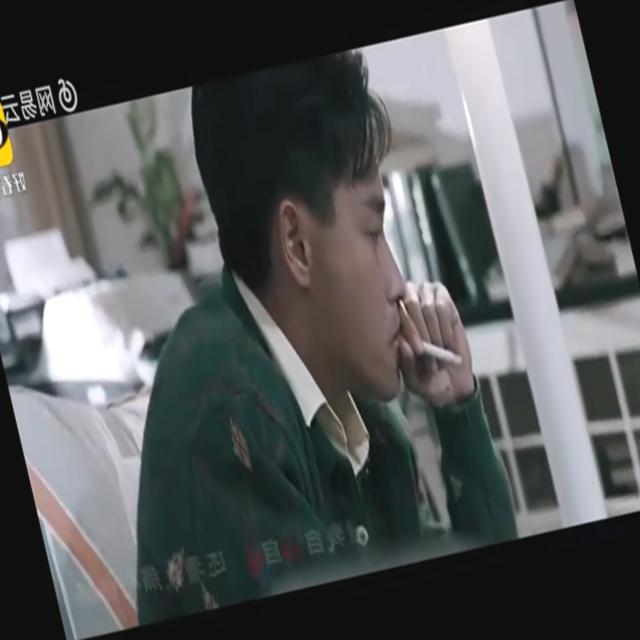smoke: (425, 326, 467, 378)
